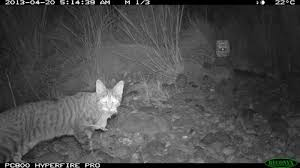bobcat: (1, 67, 140, 164)
